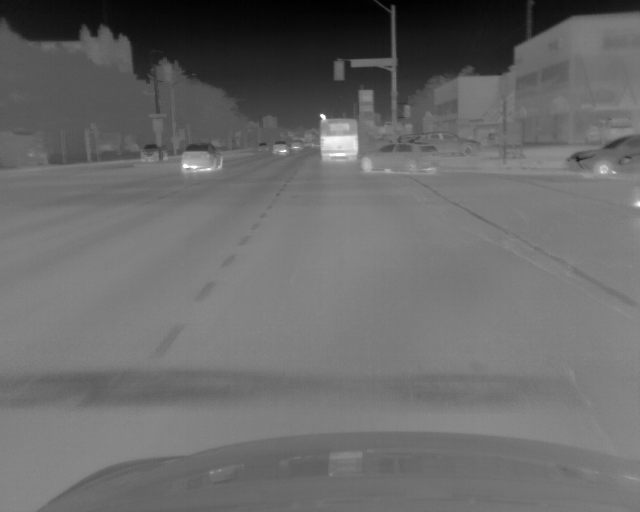car: (564, 132, 640, 178), (360, 142, 438, 179), (317, 118, 358, 160), (412, 133, 478, 158), (180, 144, 222, 172), (141, 144, 166, 163), (272, 140, 291, 156), (289, 139, 302, 153), (255, 141, 269, 151)
